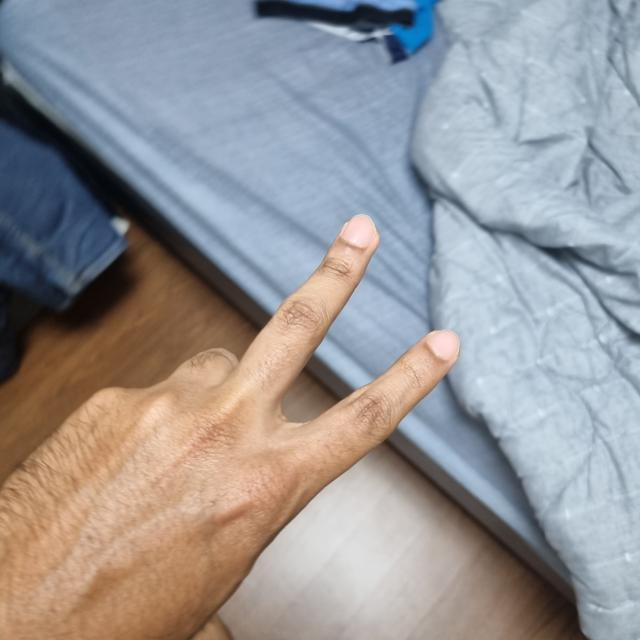Scissors: (26, 222, 456, 639)
